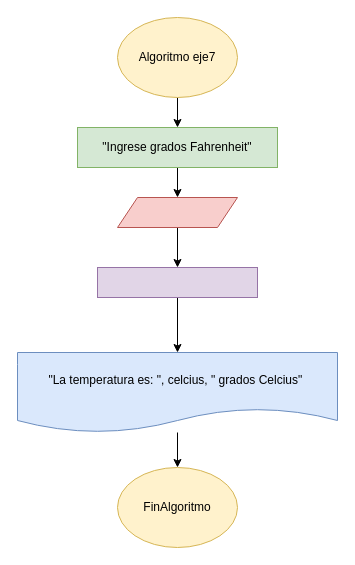
Image size: 355x565. Some labels were removed from this diagram. Each missing label, with the centre of its shape:
"celcius<-(grados_F-32)/1.8" belongs at (177,282).
"grados_F" belongs at (177,212).
